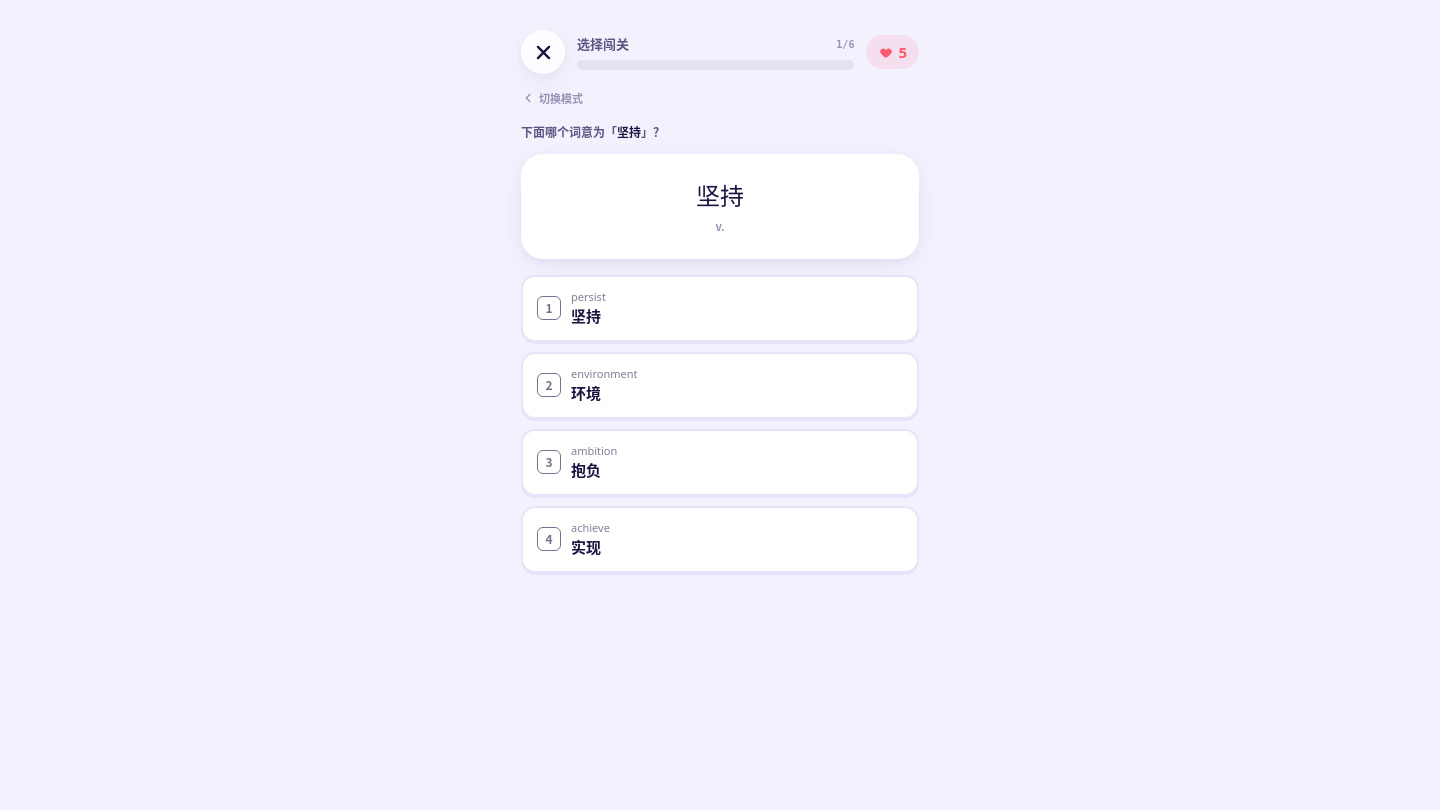
Test: StudySessionScreen › shows AI mistake coaching after a wrong answer
Click the button "3 ambition 抱负": {"x": 594, "y": 450} [521, 429, 919, 496]
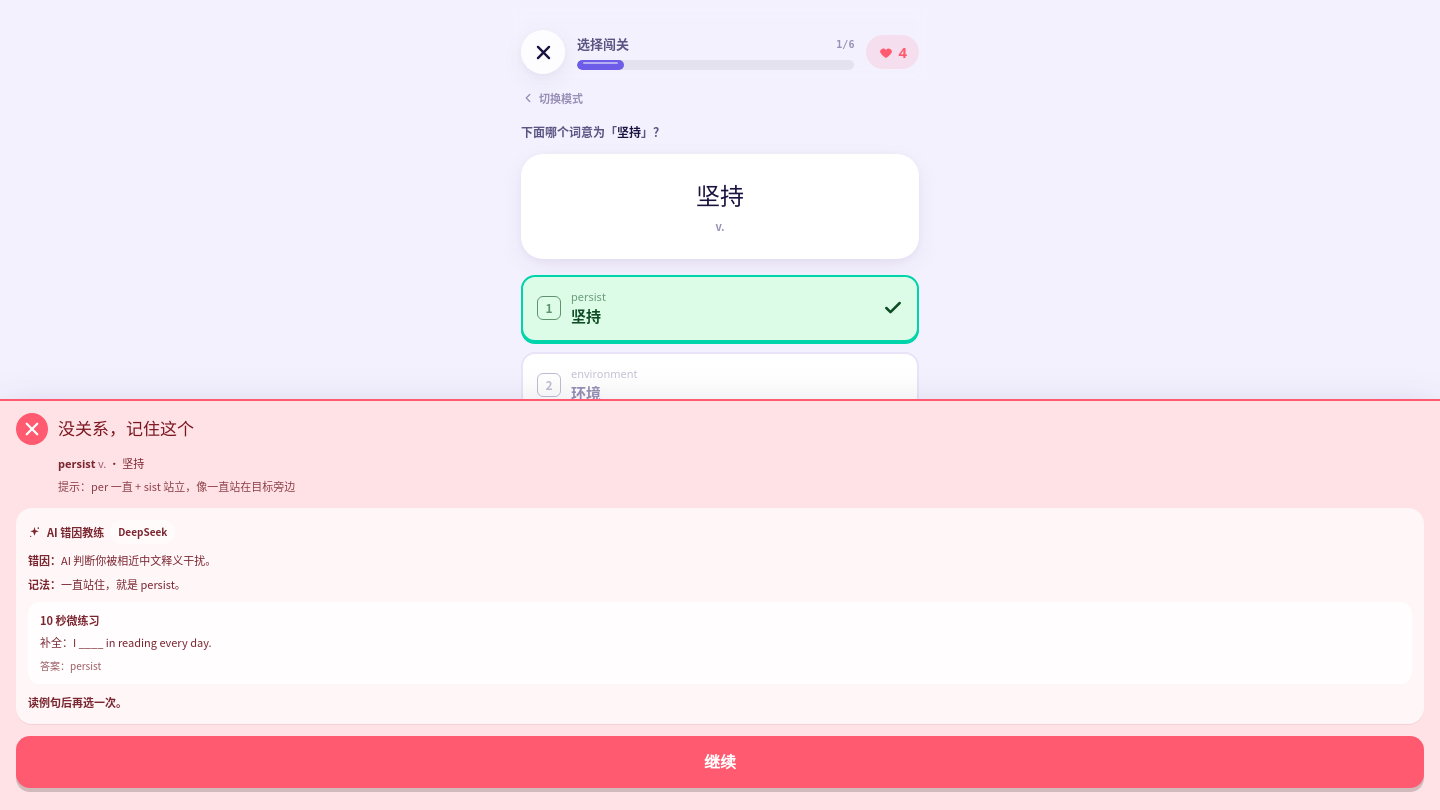
Expected: the text "没关系，记住这个" is shown, [58, 417, 194, 440]
Expected: the text "AI 错因教练" is shown, [47, 522, 104, 542]
Expected: the text "AI 判断你被相近中文释义干扰。" is shown, [61, 552, 216, 568]
